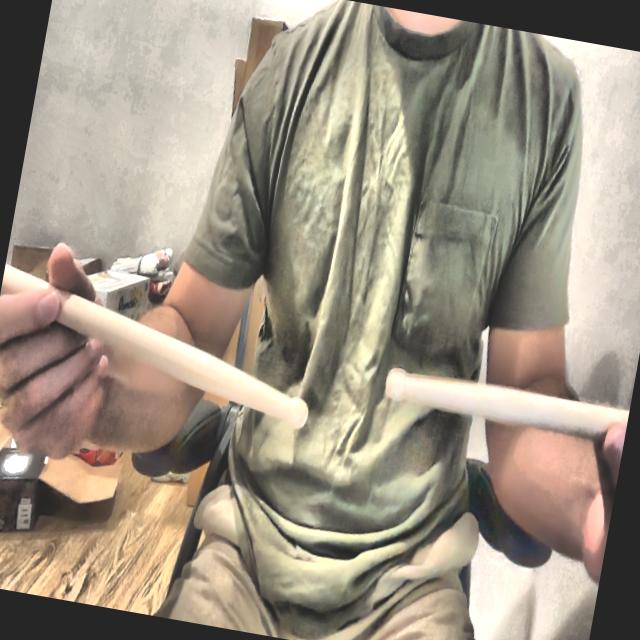Drumstick-Heads: (384, 364, 409, 405), (285, 397, 310, 436)
